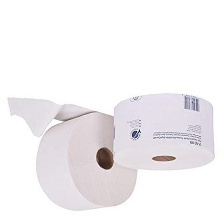tissue: (1, 92, 143, 217), (107, 87, 220, 177)
